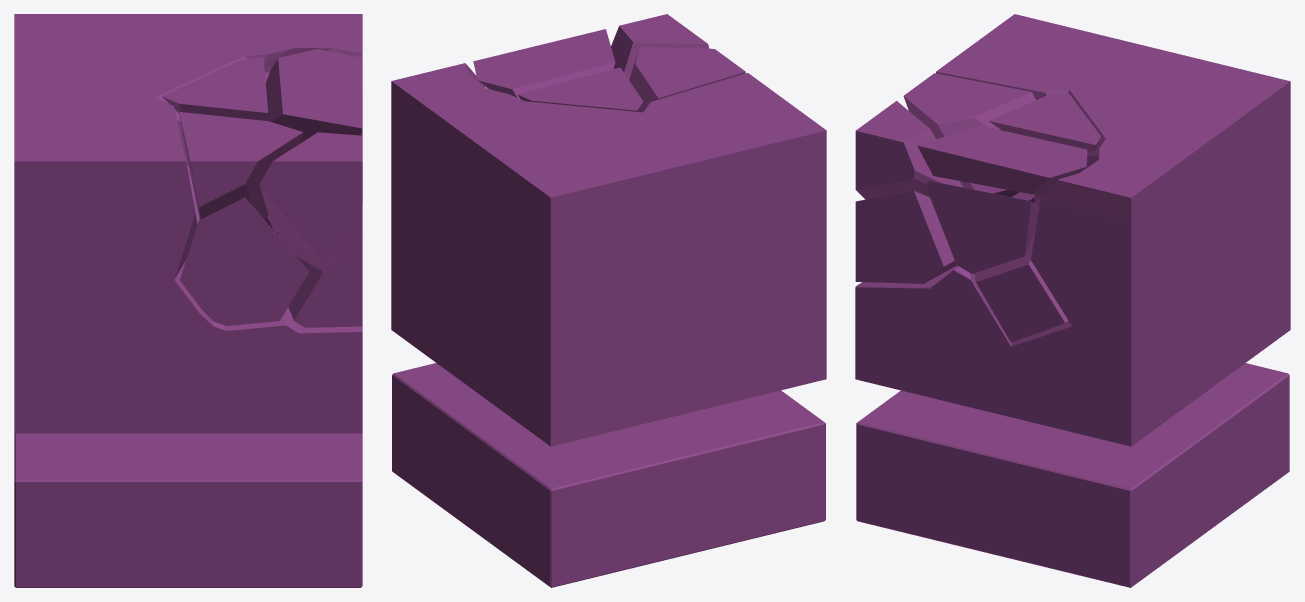
3 views of the same model, side by side, from view 1: azimuth 30°, elevation 25°; view 2: azimuth 150°, elevation 25°; view 3: azimuth 270°, elevation 25° (orthographic). The views are drawn at different scales.
Parts seen in each view (by area): view 1: Mashup_03; view 2: Mashup_03; view 3: Mashup_03.
Boxes of the visible parts, <box> form: Mashup_03: <box>14,14,362,587</box>; Mashup_03: <box>391,14,826,587</box>; Mashup_03: <box>855,14,1290,587</box>.
Size of the model in its own units: 401 by 398 by 401.
1 material, 1 textured.
